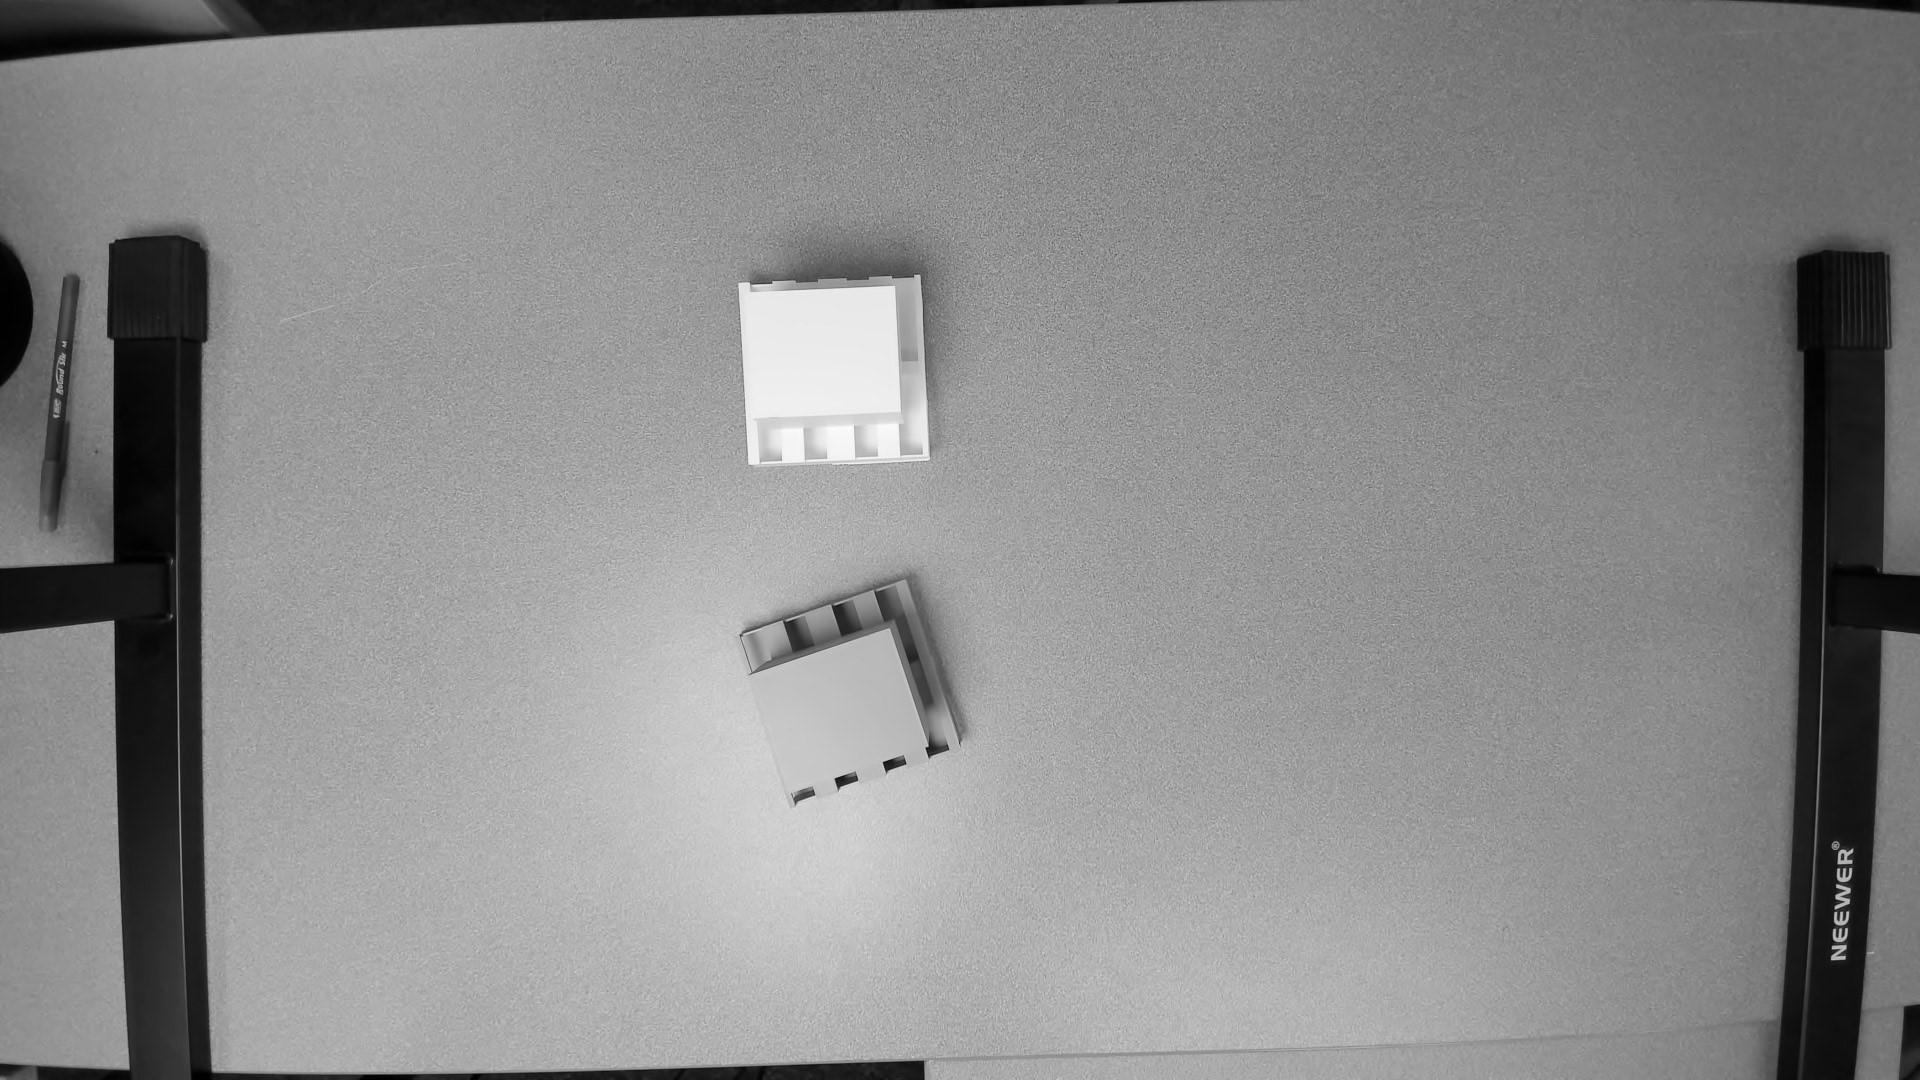grey pallet: (731, 571, 981, 814)
white pallet: (731, 262, 936, 475)
